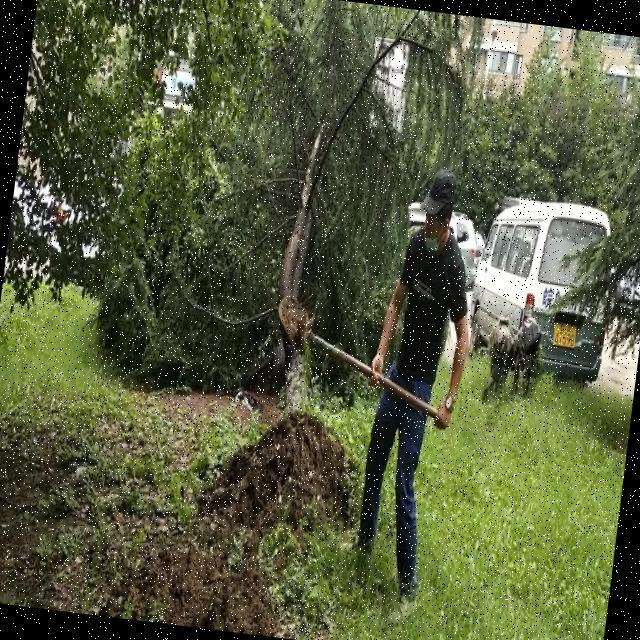fallen_object: (101, 0, 444, 414)
